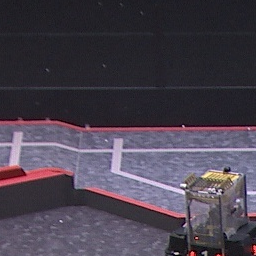Red: (189, 250, 221, 256)
Robot: (163, 169, 256, 256)
